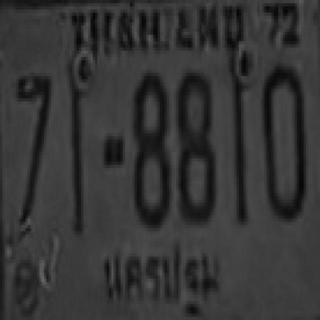N00: (264, 63, 308, 219)
N07: (14, 73, 51, 216)
N08: (176, 70, 216, 222), (131, 70, 170, 225)
P28: (95, 236, 225, 315)
